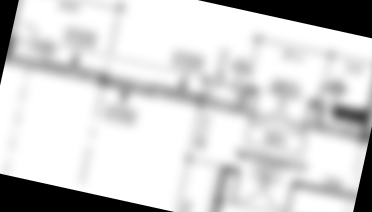double door: (246, 88, 314, 135), (229, 169, 296, 212)
